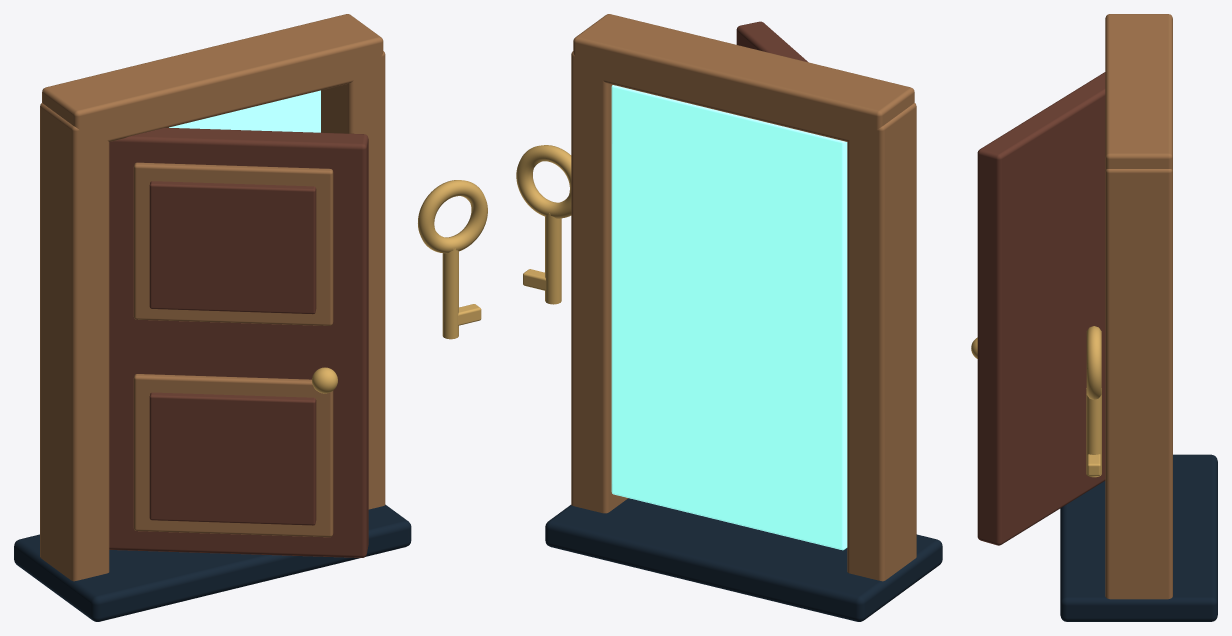
File: roblox.glb
The picture shows the model from 3 angles, left to right: view 1: azimuth 30°, elevation 25°; view 2: azimuth 150°, elevation 25°; view 3: azimuth 270°, elevation 25°; orthographic projection. The views are drawn at different scales.
Parts seen in each view (by area): view 1: Door leaf, Inset (×2), Left jamb, Lintel, Raised door panel (×2), Doorstep, Right jamb, Threshold light, Key bow, Key shaft; view 2: Threshold light, Left jamb, Doorstep, Lintel, Right jamb, Key bow, Key shaft, Door leaf; view 3: Door leaf, Right jamb, Doorstep, Lintel, Key bow, Key shaft.
Boxes of the visible parts, x1=… form: Door leaf: x1=109, y1=127, x2=368, y2=557; Inset (×2): x1=149, y1=181, x2=316, y2=525; Left jamb: x1=40, y1=103, x2=109, y2=581; Lintel: x1=42, y1=14, x2=383, y2=143; Raised door panel (×2): x1=133, y1=162, x2=333, y2=537; Doorstep: x1=14, y1=504, x2=411, y2=621; Right jamb: x1=321, y1=51, x2=385, y2=509; Threshold light: x1=169, y1=90, x2=320, y2=132; Key bow: x1=418, y1=180, x2=487, y2=253; Key shaft: x1=442, y1=248, x2=458, y2=339; Threshold light: x1=611, y1=85, x2=847, y2=550; Left jamb: x1=847, y1=103, x2=916, y2=581; Doorstep: x1=545, y1=498, x2=942, y2=621; Lintel: x1=573, y1=14, x2=914, y2=145; Right jamb: x1=571, y1=51, x2=628, y2=513; Key bow: x1=516, y1=145, x2=571, y2=218; Key shaft: x1=545, y1=213, x2=561, y2=304; Door leaf: x1=736, y1=21, x2=808, y2=62; Door leaf: x1=977, y1=72, x2=1105, y2=545; Right jamb: x1=1105, y1=169, x2=1172, y2=599; Doorstep: x1=1060, y1=454, x2=1217, y2=621; Lintel: x1=1105, y1=14, x2=1172, y2=169; Key bow: x1=1086, y1=326, x2=1101, y2=399; Key shaft: x1=1086, y1=388, x2=1101, y2=477.
Size of the model in its own units: 1.99 by 2.29 by 1.1.
